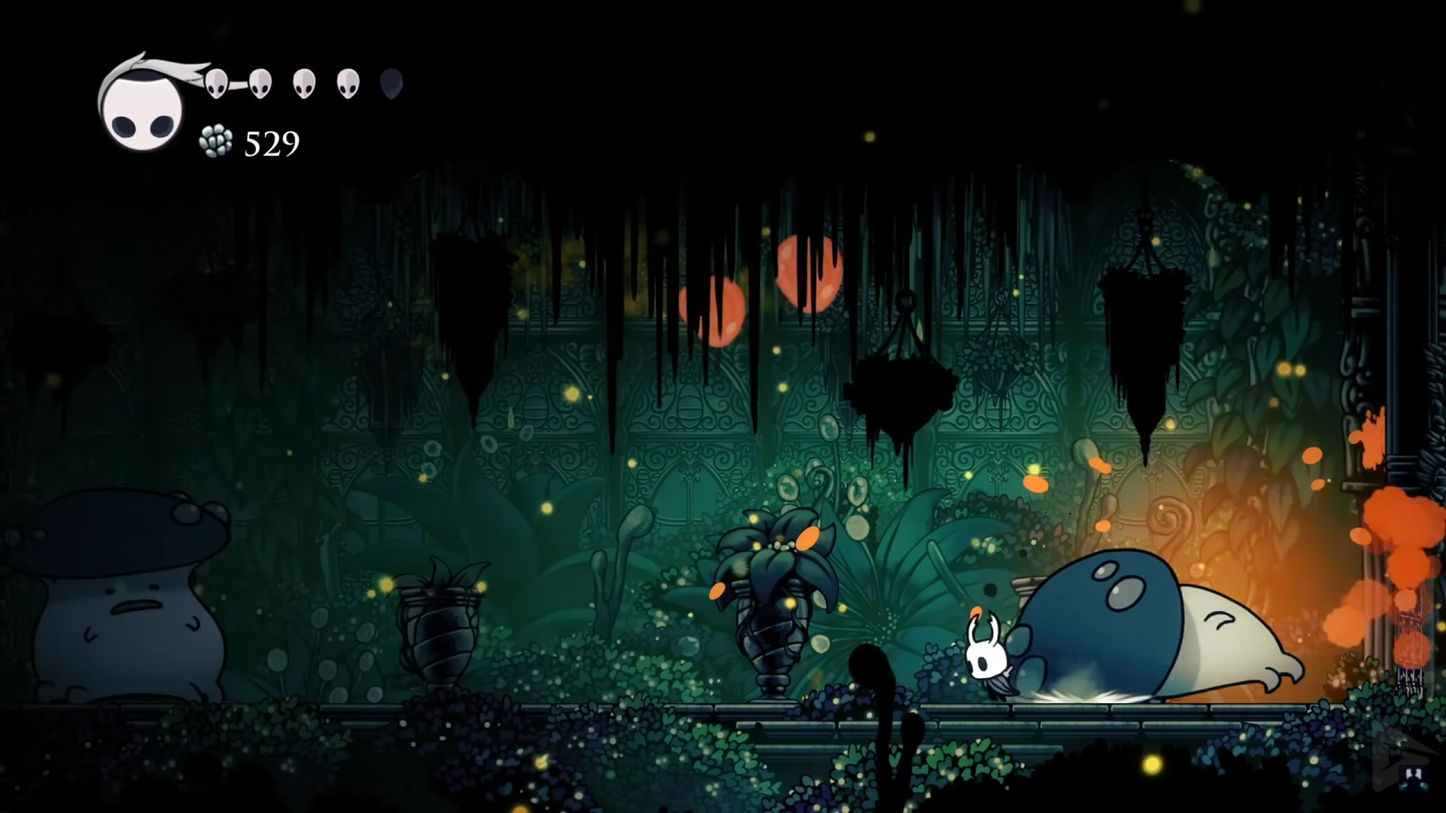HK: (959, 610, 1021, 711)
